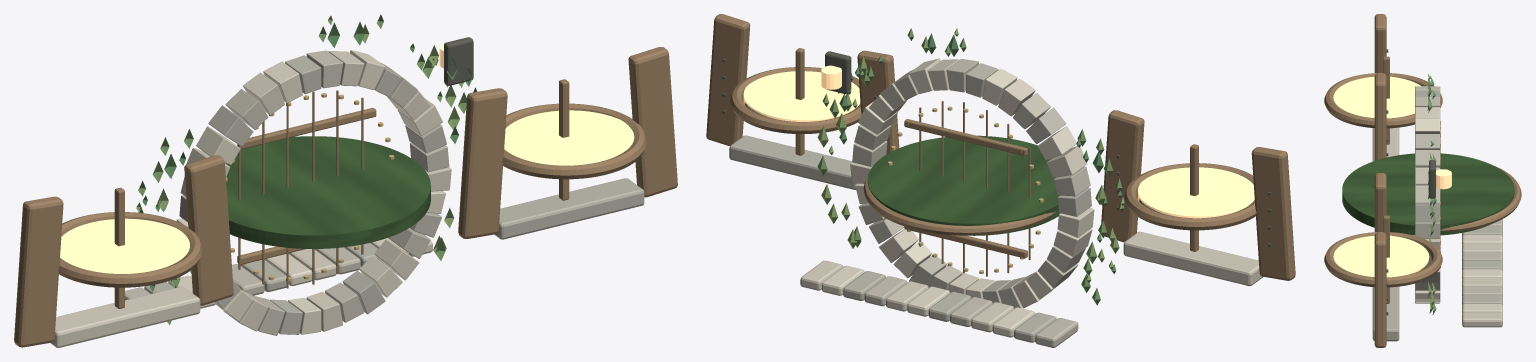
File: bag_end_crafted_portal.glb
3 views of the same model, side by side, from view 1: azimuth 30°, elevation 25°; view 2: azimuth 150°, elevation 25°; view 3: azimuth 270°, elevation 25° (orthographic). The views are drawn at different scales.
Parts seen in each view (by area): view 1: BagEndCrafted_aged_carved_oak, BagEndCrafted_painted_sage_wood, BagEndCrafted_quarried_limestone_3, BagEndCrafted_lit_amber_glass, BagEndCrafted_quarried_limestone_1, BagEndCrafted_quarried_limestone_2, BagEndCrafted_quarried_limestone_0, BagEndCrafted_wrought_iron, BagEndCrafted_ivy_1, BagEndCrafted_ivy_2, BagEndCrafted_ivy_0; view 2: BagEndCrafted_aged_carved_oak, BagEndCrafted_painted_sage_wood, BagEndCrafted_quarried_limestone_1, BagEndCrafted_quarried_limestone_3, BagEndCrafted_lit_amber_glass, BagEndCrafted_quarried_limestone_0, BagEndCrafted_quarried_limestone_2, BagEndCrafted_ivy_2, BagEndCrafted_ivy_1, BagEndCrafted_wrought_iron, BagEndCrafted_ivy_0, BagEndCrafted_aged_brass; view 3: BagEndCrafted_aged_carved_oak, BagEndCrafted_painted_sage_wood, BagEndCrafted_lit_amber_glass, BagEndCrafted_quarried_limestone_3, BagEndCrafted_quarried_limestone_1, BagEndCrafted_quarried_limestone_0, BagEndCrafted_quarried_limestone_2, BagEndCrafted_wrought_iron, BagEndCrafted_ivy_2, BagEndCrafted_ivy_1.
Boxes of the visible parts, x1,y1,x2,y2 form: BagEndCrafted_aged_carved_oak: (14,47,677,347); BagEndCrafted_painted_sage_wood: (225,136,430,248); BagEndCrafted_quarried_limestone_3: (144,55,644,334); BagEndCrafted_lit_amber_glass: (60,43,634,273); BagEndCrafted_quarried_limestone_1: (50,51,451,347); BagEndCrafted_quarried_limestone_2: (168,50,445,334); BagEndCrafted_quarried_limestone_0: (125,50,449,335); BagEndCrafted_wrought_iron: (444,37,473,85); BagEndCrafted_ivy_1: (138,14,477,325); BagEndCrafted_ivy_2: (136,16,463,287); BagEndCrafted_ivy_0: (142,22,472,291); BagEndCrafted_aged_carved_oak: (706,14,1295,280); BagEndCrafted_painted_sage_wood: (867,135,1060,235); BagEndCrafted_quarried_limestone_1: (800,59,1263,332); BagEndCrafted_quarried_limestone_3: (729,63,1091,342); BagEndCrafted_lit_amber_glass: (743,65,1254,218); BagEndCrafted_quarried_limestone_0: (852,59,1090,347); BagEndCrafted_quarried_limestone_2: (822,58,1094,337); BagEndCrafted_ivy_2: (817,28,1124,282); BagEndCrafted_ivy_1: (817,28,1124,305); BagEndCrafted_wrought_iron: (722,51,1271,247); BagEndCrafted_ivy_0: (839,33,1121,273); BagEndCrafted_aged_brass: (887,106,1043,273); BagEndCrafted_aged_carved_oak: (1324,14,1521,347); BagEndCrafted_painted_sage_wood: (1342,153,1514,235); BagEndCrafted_lit_amber_glass: (1333,76,1451,277); BagEndCrafted_quarried_limestone_3: (1372,91,1502,341); BagEndCrafted_quarried_limestone_1: (1372,86,1502,327); BagEndCrafted_quarried_limestone_0: (1415,97,1502,296); BagEndCrafted_quarried_limestone_2: (1415,86,1502,314); BagEndCrafted_wrought_iron: (1386,49,1435,315); BagEndCrafted_ivy_2: (1428,74,1436,314); BagEndCrafted_ivy_1: (1428,76,1436,313).
Size of the model in its own units: 7.13 by 3.17 by 2.52.
Materials: 12 (1 with a texture image).
